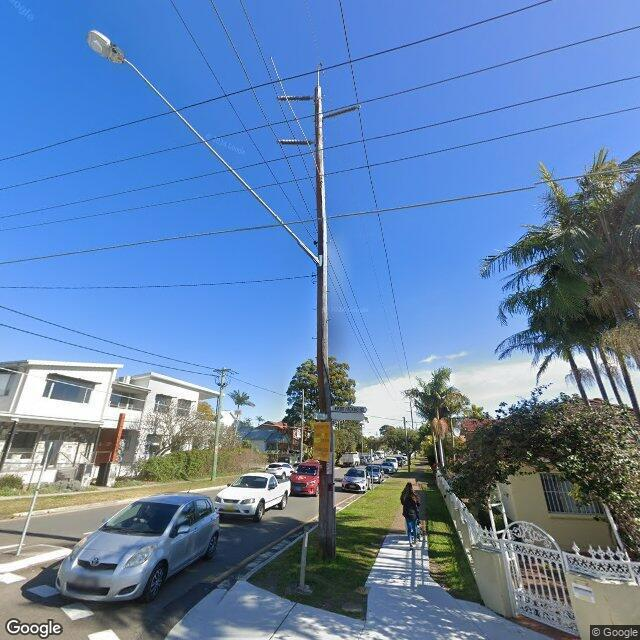HV-transmission: (277, 94, 360, 146)
steel-pole: (214, 482, 215, 482)
streetlight: (87, 30, 320, 265)
timber-pole: (314, 86, 336, 562), (210, 366, 227, 480), (403, 416, 410, 476), (300, 388, 304, 464)
